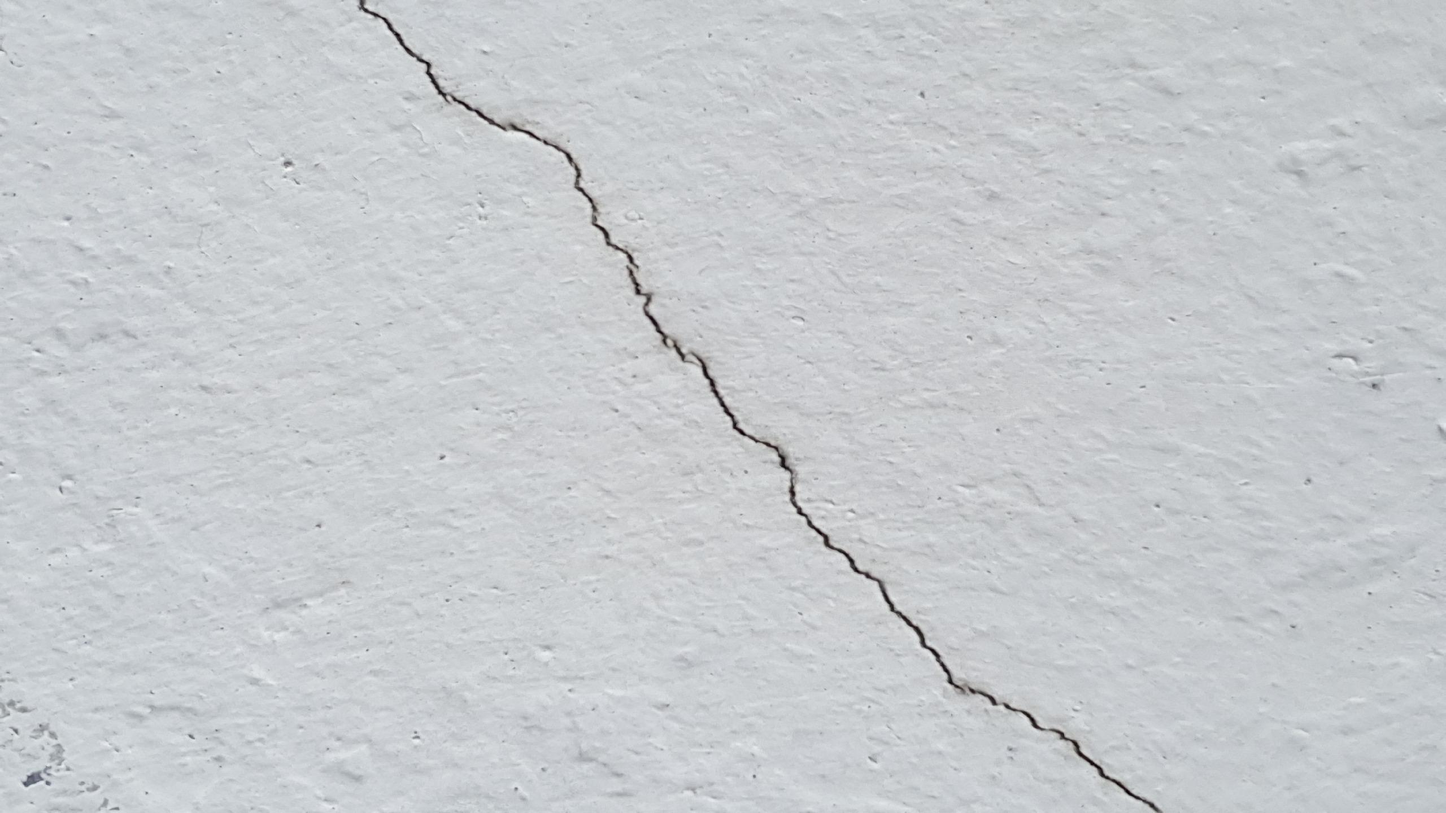crack: (358, 0, 1164, 812)
